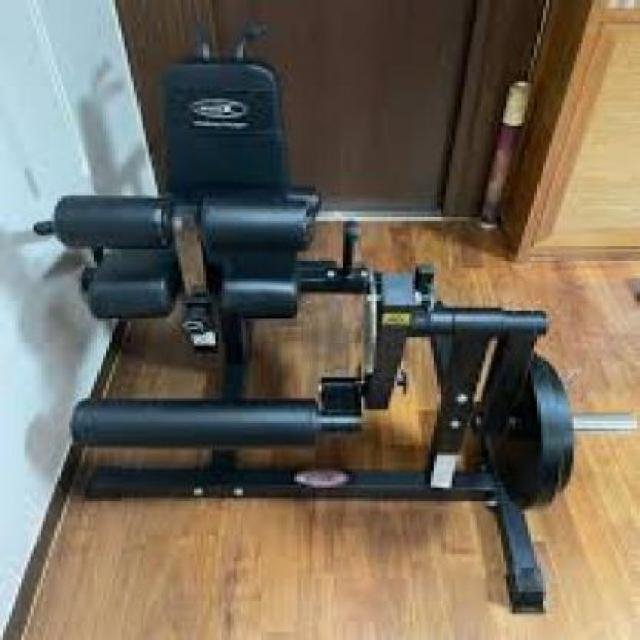leg extension: (9, 31, 598, 640)
